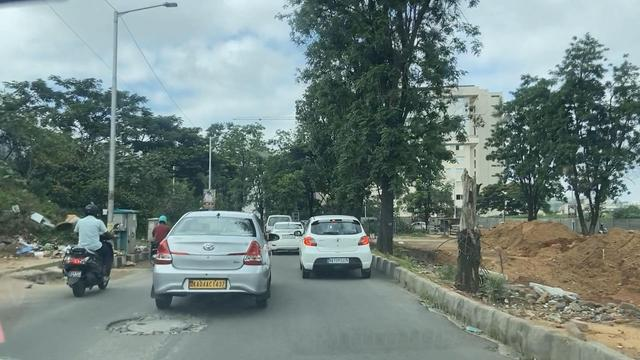LMV: (163, 215, 266, 291), (310, 221, 376, 270), (73, 196, 106, 284)
RoadDamages: (95, 311, 218, 343)
